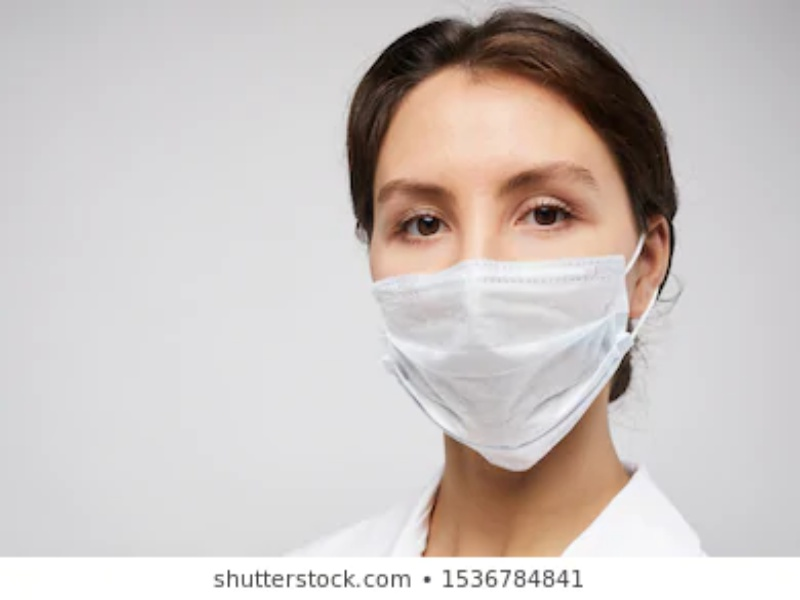ManaoArotava: (334, 26, 676, 488)
